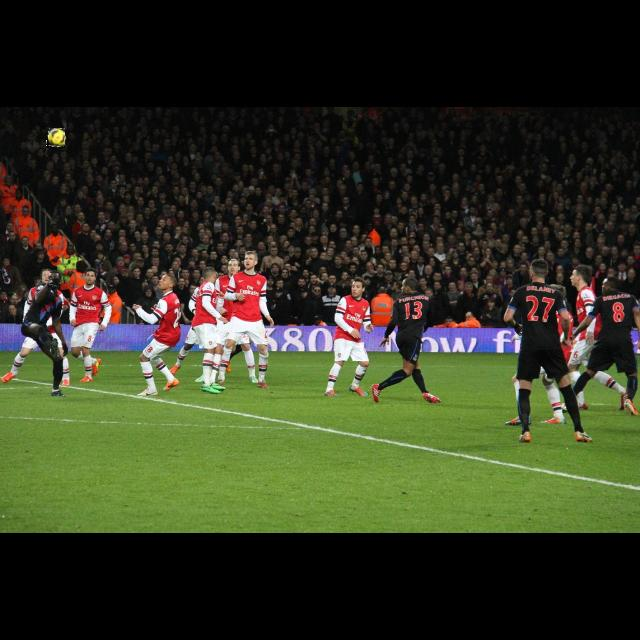Football: (47, 128, 65, 148)
